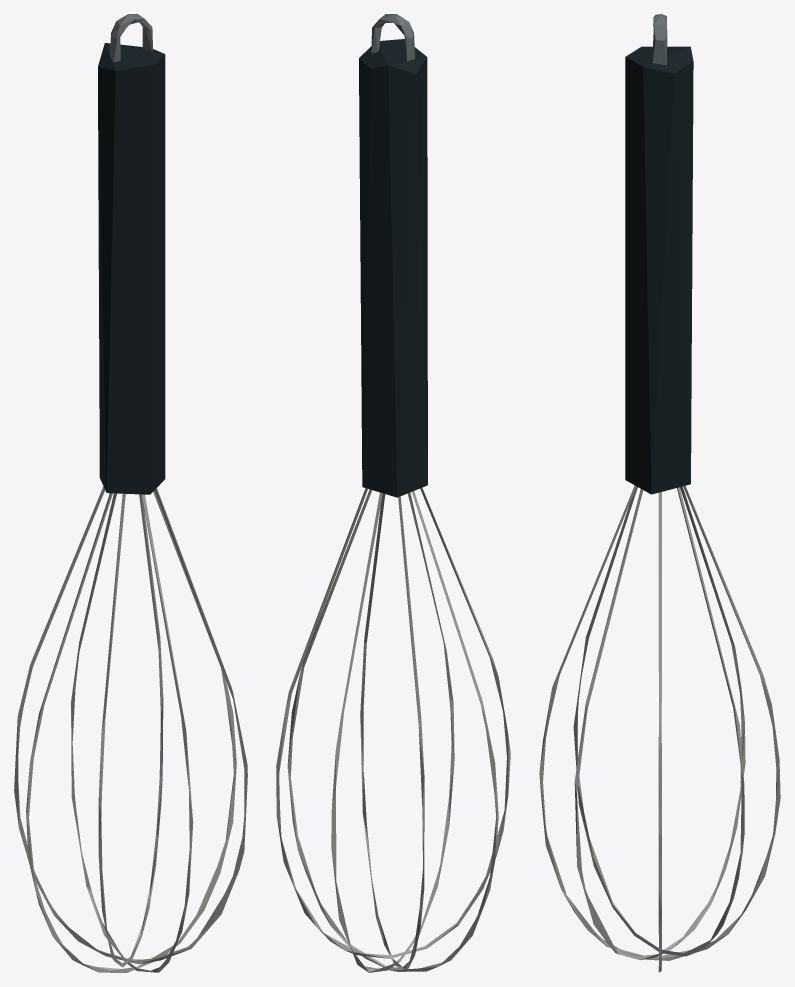
The model's file is Whisk.fbx.
The picture shows the model from 3 angles, left to right: view 1: azimuth 30°, elevation 25°; view 2: azimuth 150°, elevation 25°; view 3: azimuth 270°, elevation 25°; orthographic projection.
Visible parts, largest first — view 1: WhiskLowPoly; view 2: WhiskLowPoly; view 3: WhiskLowPoly.
Boxes of the visible parts, x1,y1,x2,y2 form: WhiskLowPoly: (14, 14, 247, 972); WhiskLowPoly: (276, 14, 510, 972); WhiskLowPoly: (539, 14, 780, 972).
Bounding box in the file's own units: 6.72 × 29.3 × 6.74.
